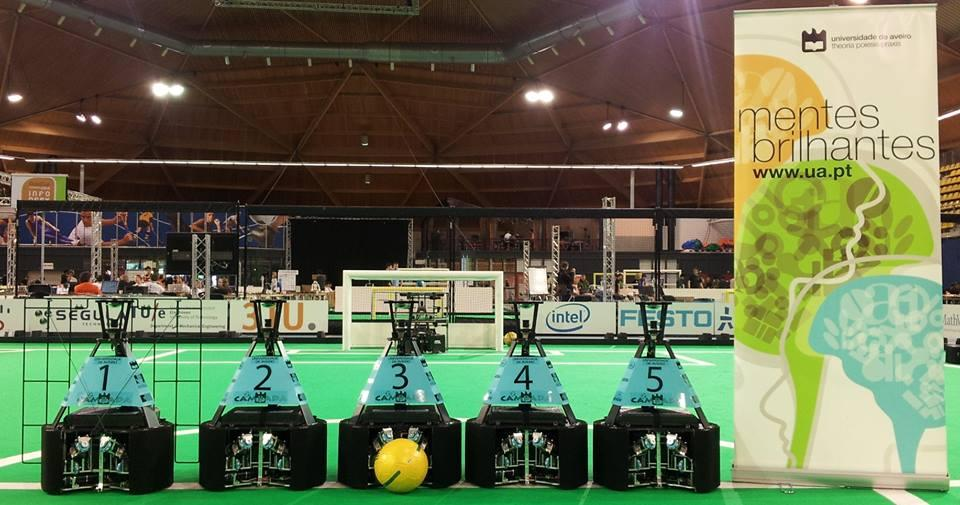robot: (32, 295, 177, 497), (189, 295, 335, 495), (584, 295, 729, 493), (456, 290, 589, 493), (337, 292, 464, 494)
